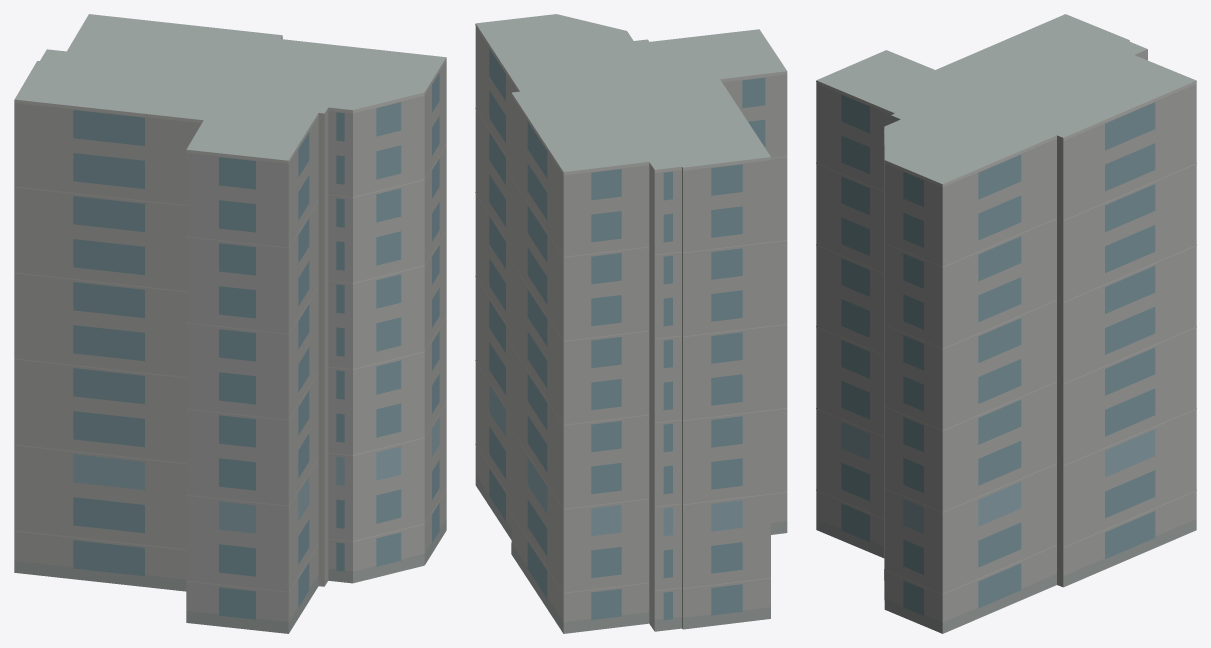
The model's file is survey-upis-32456614.glb.
3 views of the same model, side by side, from view 1: azimuth 30°, elevation 25°; view 2: azimuth 150°, elevation 25°; view 3: azimuth 270°, elevation 25° (orthographic). The views are drawn at different scales.
Parts seen in each view (by area): view 1: survey-upis-32456614.tmp; view 2: survey-upis-32456614.tmp; view 3: survey-upis-32456614.tmp.
Part boxes in pixels (box(x1,y1,x2,y2)): survey-upis-32456614.tmp: box(14, 14, 446, 633); survey-upis-32456614.tmp: box(475, 14, 787, 633); survey-upis-32456614.tmp: box(816, 14, 1196, 633).
Size of the model in its own units: 28.54 by 35.1 by 26.94.
